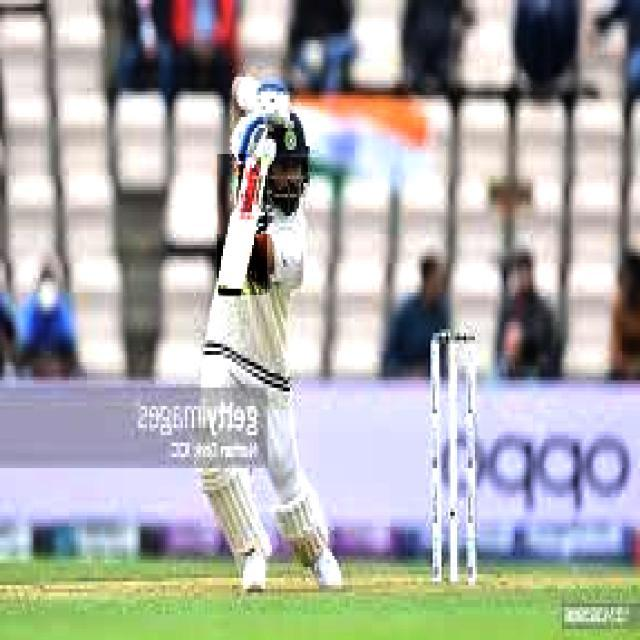bat: (205, 143, 265, 310)
toe: (218, 283, 244, 298)
